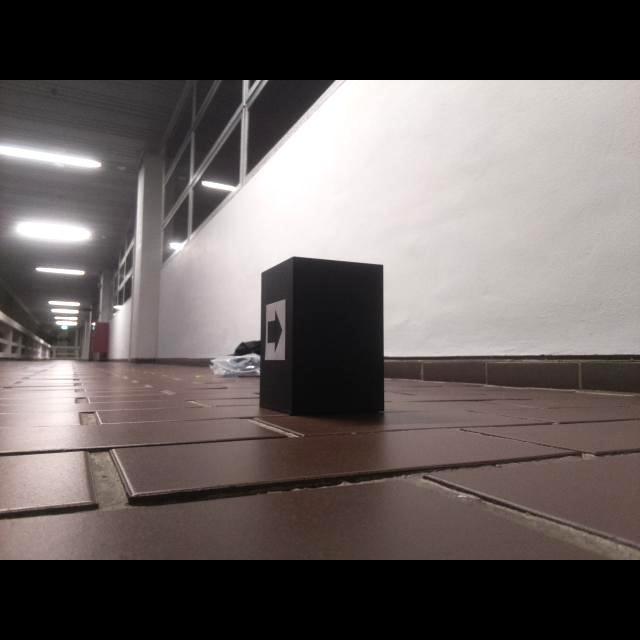RIGHT: (267, 312, 283, 351)
